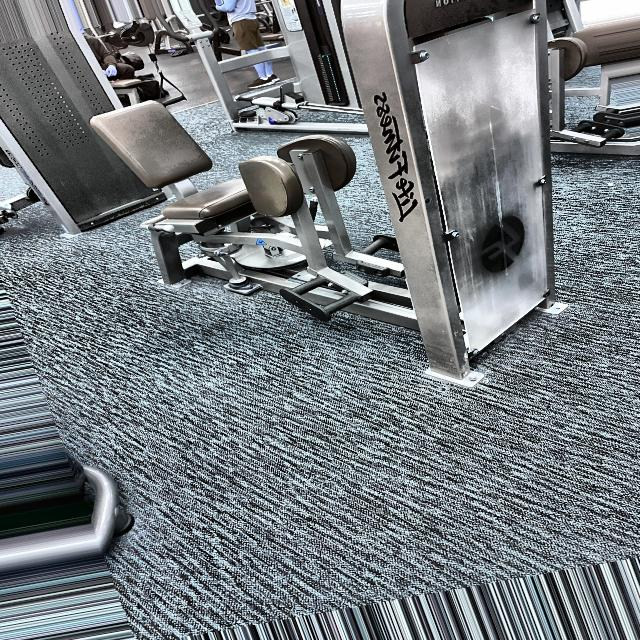hip_adduction_machine: (70, 91, 391, 308)
